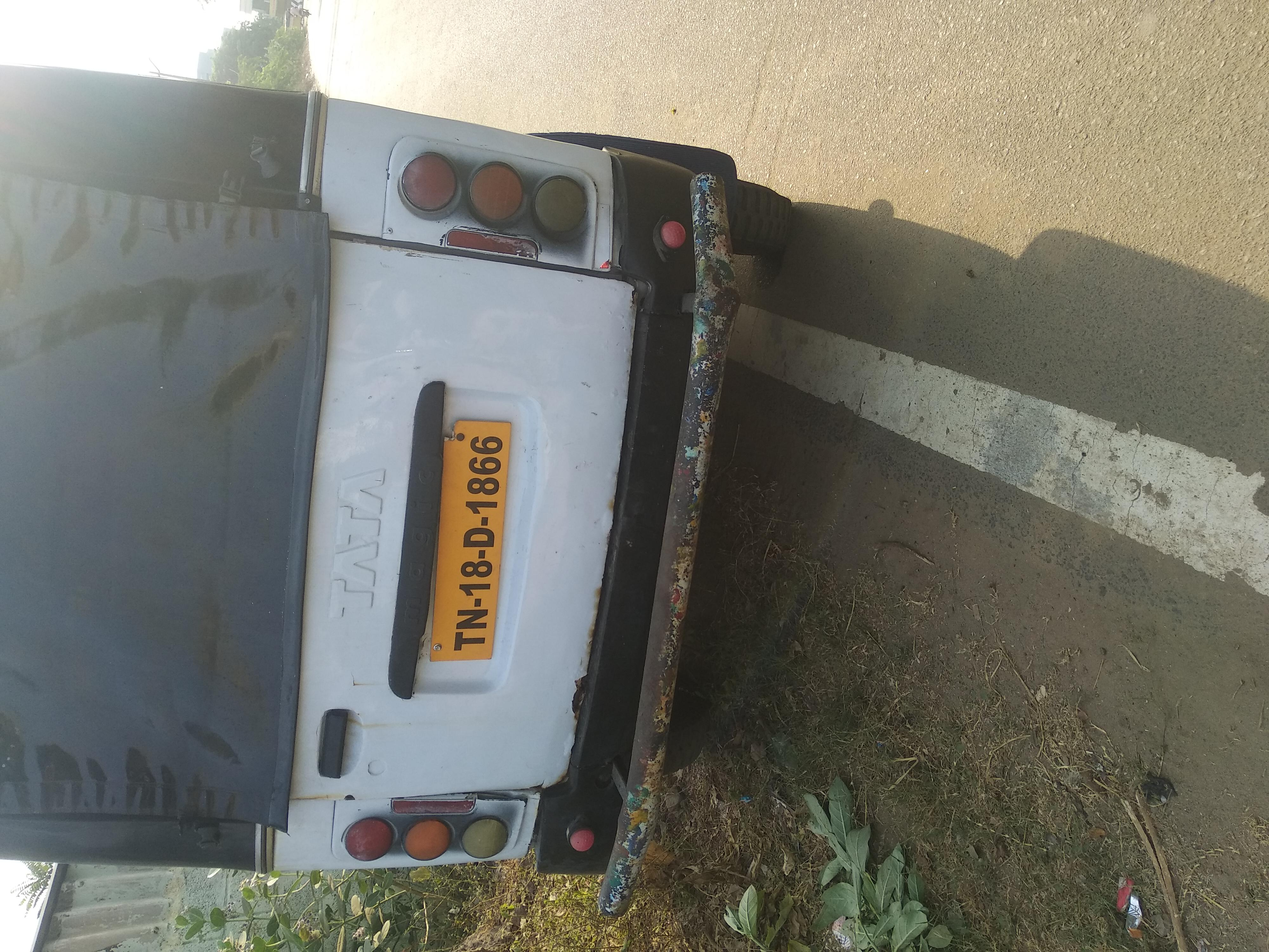number_platerotation: (380, 318, 713, 387)
